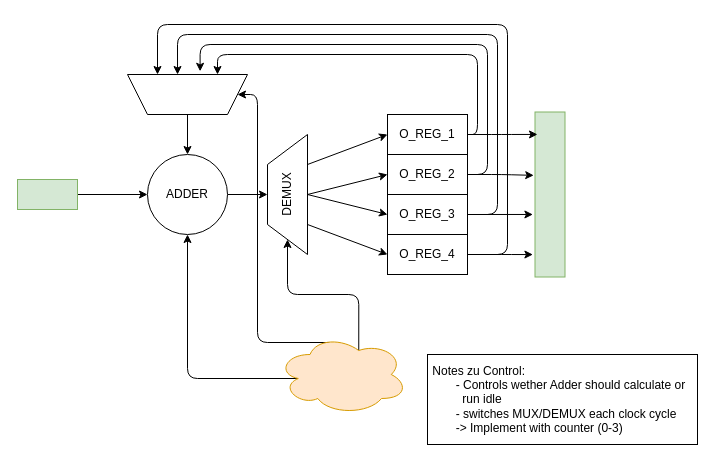
The diagram is 715 pixels wide and 462 high, and some of its shapes have lost their labels. Each missing label, with the centre of its shape:
"Control" belongs at [342,374].
"FROM M_REG" belongs at [47,194].
"MUX" belongs at [187,94].
"TO RAM" belongs at [549,194].
